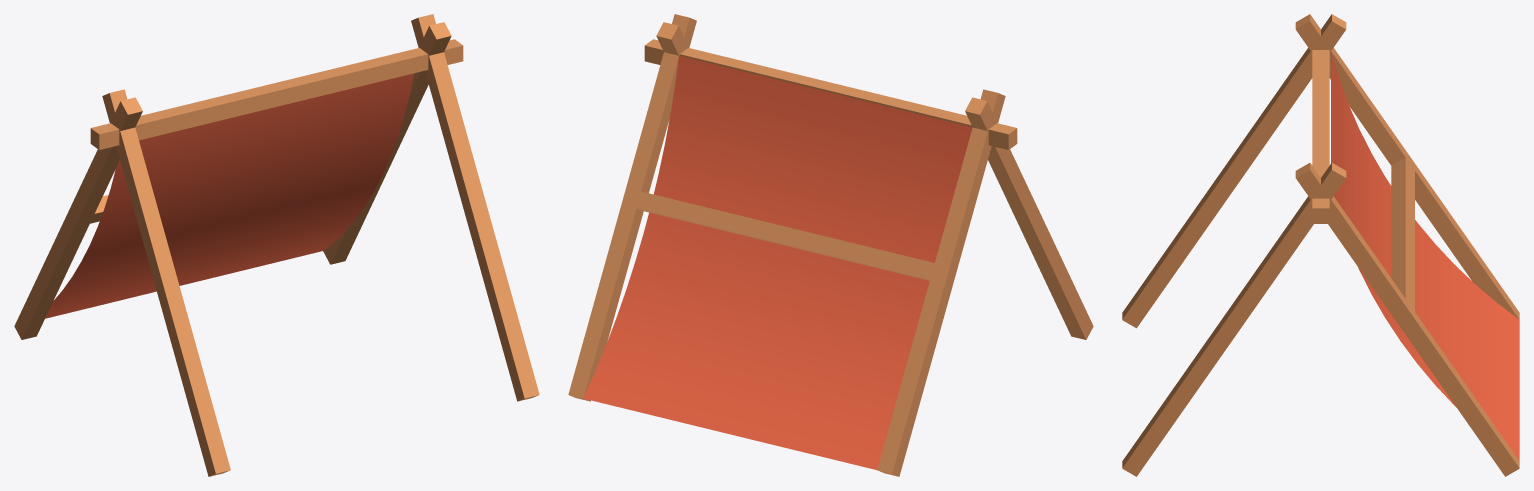
The model's file is tentHalf.dae.
The picture shows the model from 3 angles, left to right: view 1: azimuth 30°, elevation 25°; view 2: azimuth 150°, elevation 25°; view 3: azimuth 270°, elevation 25°; orthographic projection.
Parts seen in each view (by area): view 1: tentHalf; view 2: tentHalf; view 3: tentHalf.
Part boxes in pixels (x1=…): tentHalf: x1=14, y1=14, x2=539, y2=476; tentHalf: x1=568, y1=14, x2=1093, y2=476; tentHalf: x1=1122, y1=14, x2=1519, y2=476.
Bounding box in the file's own units: 2.25 × 1.84 × 2.16.
